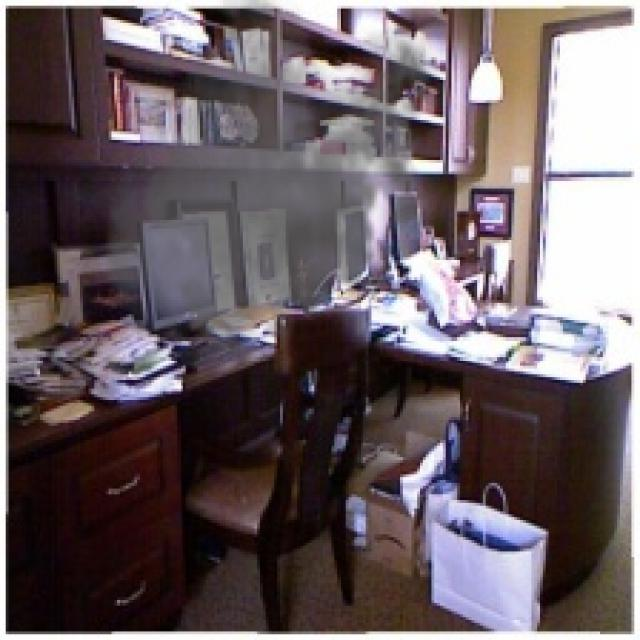smoke: (97, 0, 443, 372)
